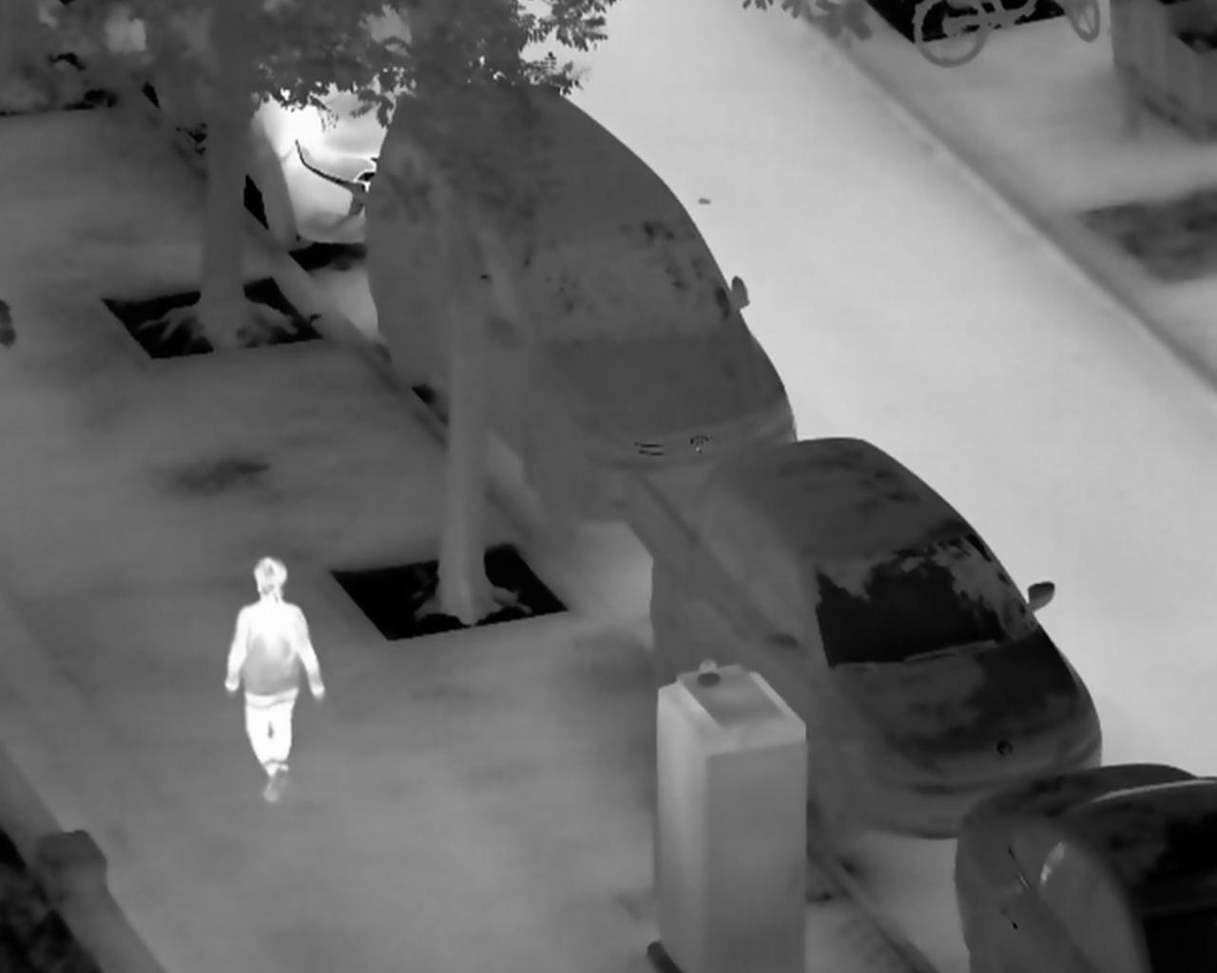person: (224, 557, 325, 803)
